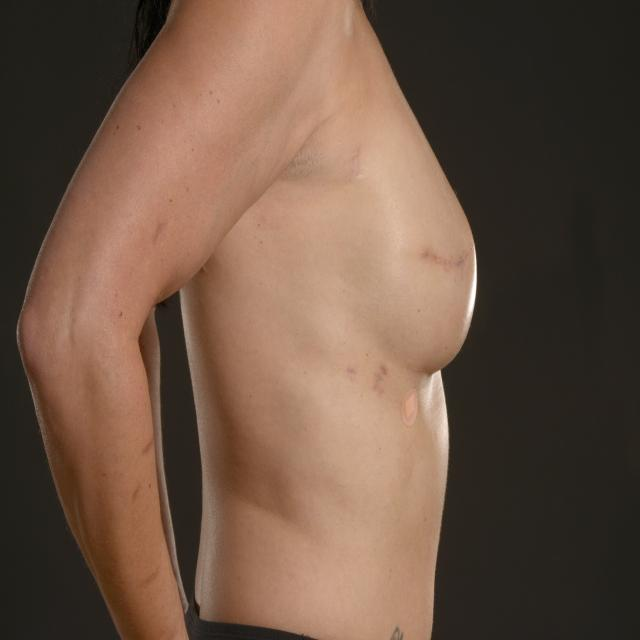wound: (414, 238, 476, 279)
